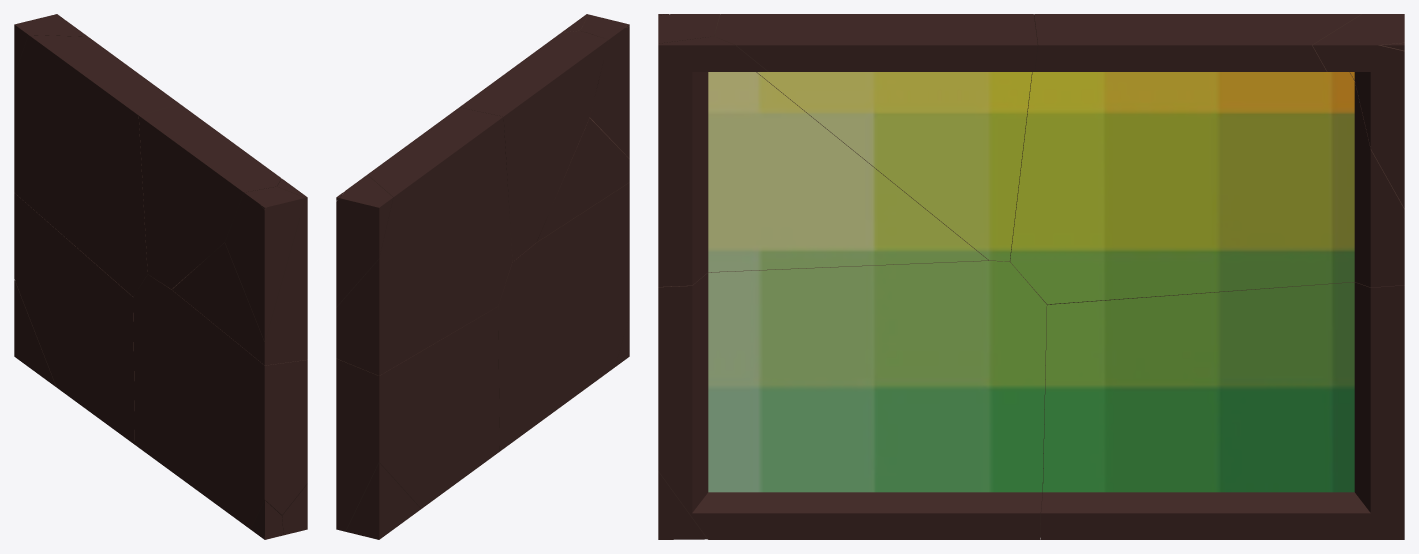
The model's file is painting1_DEST.fbx.
3 renders of one model, left to right at view 1: azimuth 30°, elevation 25°; view 2: azimuth 150°, elevation 25°; view 3: azimuth 270°, elevation 25°, orthographic. The views are drawn at different scales.
Visible parts, largest first — view 1: polySurface151.001_cell.010, polySurface151.001_cell.011, polySurface151.001_cell.006, polySurface151.001_cell.012, polySurface151.001_cell.008, polySurface151.001_cell.003, polySurface151.001_cell.005, polySurface151.001_cell.007, polySurface151.001_cell.001, polySurface151.001_cell; view 2: polySurface151.001_cell.011, polySurface151.001_cell.010, polySurface151.001_cell.006, polySurface151.001_cell.012, polySurface151.001_cell.008, polySurface151.001_cell.007, polySurface151.001_cell.003, polySurface151.001_cell.005; view 3: polySurface151.001_cell.010, polySurface151.001_cell.011, polySurface151.001_cell.006, polySurface151.001_cell.008, polySurface151.001_cell.012, polySurface151.001_cell.007, polySurface151.001_cell.001, polySurface151.001_cell.003.
Boxes of the visible parts, x1,y1,x2,y2 form: polySurface151.001_cell.010: [133, 274, 307, 529]; polySurface151.001_cell.011: [14, 35, 179, 296]; polySurface151.001_cell.006: [14, 193, 134, 444]; polySurface151.001_cell.012: [139, 104, 281, 289]; polySurface151.001_cell.008: [172, 179, 307, 365]; polySurface151.001_cell.003: [225, 186, 305, 341]; polySurface151.001_cell.005: [14, 280, 56, 386]; polySurface151.001_cell.007: [14, 15, 87, 74]; polySurface151.001_cell.001: [282, 484, 307, 535]; polySurface151.001_cell: [250, 500, 283, 539]; polySurface151.001_cell.011: [336, 107, 512, 375]; polySurface151.001_cell.010: [498, 182, 629, 451]; polySurface151.001_cell.006: [336, 306, 499, 531]; polySurface151.001_cell.012: [460, 30, 608, 261]; polySurface151.001_cell.008: [537, 14, 629, 241]; polySurface151.001_cell.007: [336, 175, 393, 306]; polySurface151.001_cell.003: [580, 14, 629, 158]; polySurface151.001_cell.005: [345, 463, 420, 539]; polySurface151.001_cell.010: [658, 260, 1047, 539]; polySurface151.001_cell.011: [1010, 14, 1404, 304]; polySurface151.001_cell.006: [1040, 282, 1404, 539]; polySurface151.001_cell.008: [658, 36, 988, 286]; polySurface151.001_cell.012: [714, 14, 1037, 261]; polySurface151.001_cell.007: [1312, 14, 1404, 208]; polySurface151.001_cell.001: [658, 472, 706, 539]; polySurface151.001_cell.003: [658, 14, 720, 43].
Bounding box in the file's own units: 0.3845 × 2.85 × 3.89.
